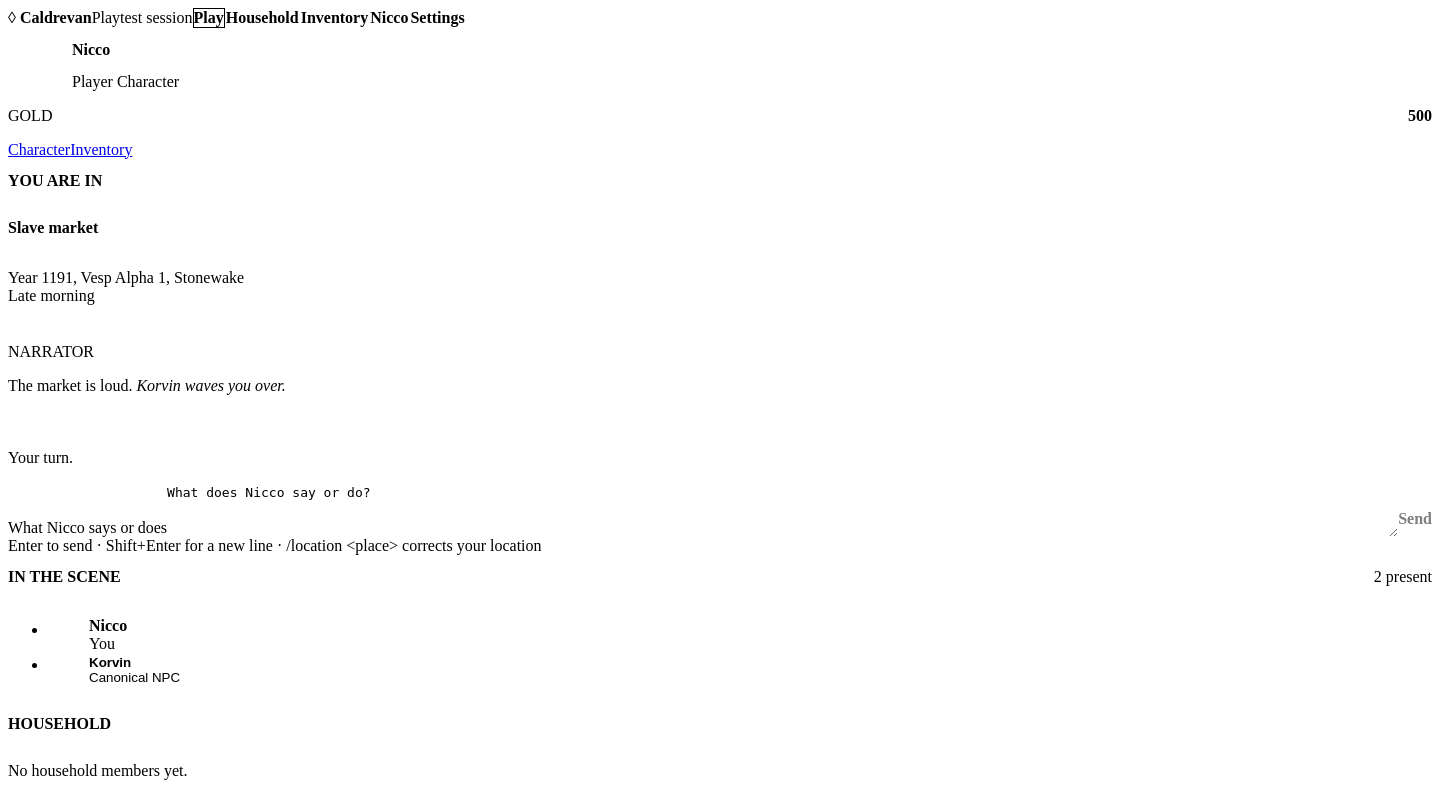
Scenario: turn progress › a refused turn (provider failure) removes the pending exchange, shows no draft prose, keeps the typed text and says the message was not applied
Type "*looks around*" into the text box labelled "What Nicco says or does".
click(783, 511); type("*looks around*")  # box 167,485 -> 1398,537
Then press Enter
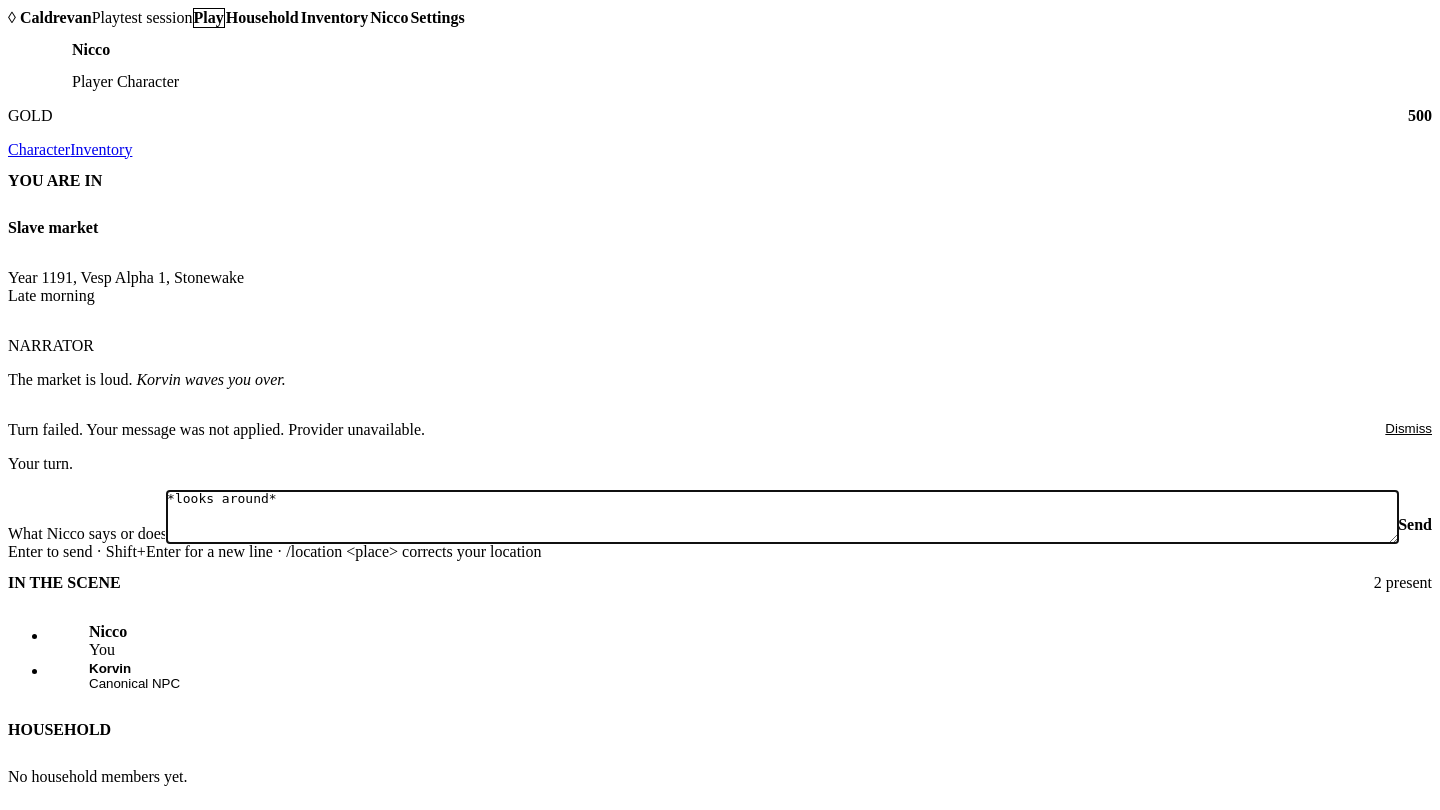
Expected: the message "Your turn." is shown, 8,455 -> 73,472
Expected: the text "Turn failed. Your message was not applied." shows "Provider unavailable.", 8,421 -> 425,438
